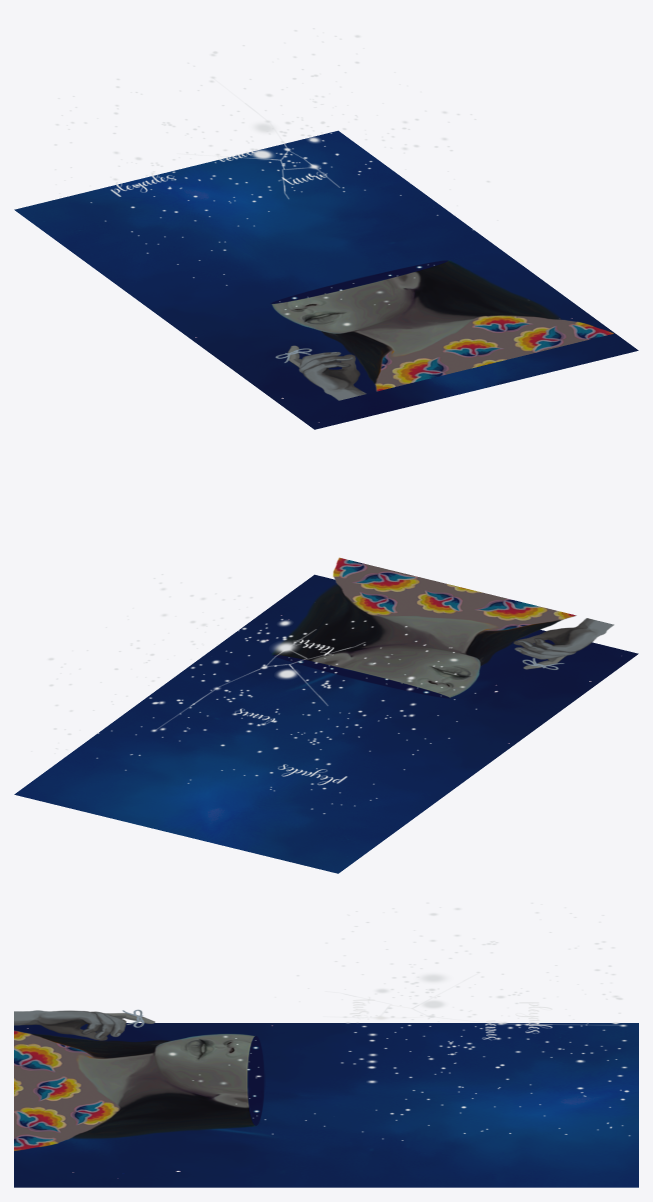
3 renders of one model, top to bottom at view 1: azimuth 30°, elevation 25°; view 2: azimuth 150°, elevation 25°; view 3: azimuth 270°, elevation 25°, orthographic. The views are drawn at different scales.
Visible parts, largest first — view 1: Plane, Plane.001, Plane.005, Plane.004; view 2: Plane, Plane.001, Plane.005, Plane.004, Plane.002; view 3: Plane, Plane.001, Plane.005, Plane.004, Plane.002, Plane.003.
Part boxes in pixels (x1,y1,x2,y2): Plane: (14, 130, 638, 429); Plane.001: (270, 260, 613, 400); Plane.005: (57, 28, 476, 188); Plane.004: (55, 53, 490, 198); Plane: (14, 574, 638, 873); Plane.001: (271, 557, 614, 698); Plane.005: (47, 574, 454, 737); Plane.004: (49, 577, 415, 764); Plane.002: (31, 626, 476, 813); Plane: (14, 1023, 638, 1187); Plane.001: (14, 1009, 265, 1150); Plane.005: (325, 902, 626, 1064); Plane.004: (256, 934, 627, 1089); Plane.002: (264, 979, 630, 1140); Plane.003: (296, 962, 629, 1115).
Bounding box in the file's own units: 3.07 × 1.06 × 4.92.
6 materials, 6 textured.
